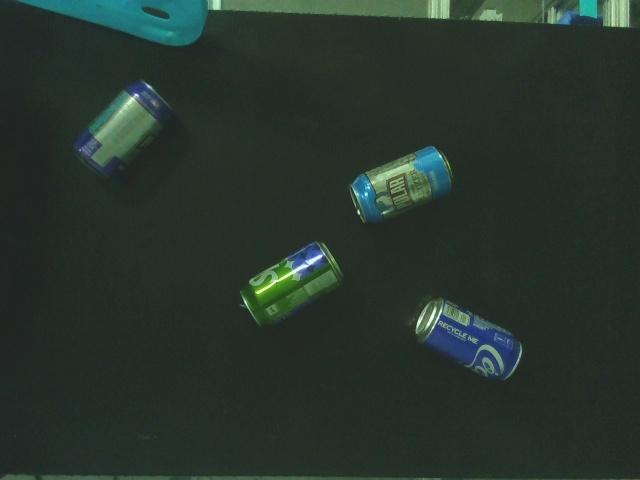metal: (70, 78, 173, 185), (414, 295, 526, 385), (238, 238, 346, 328), (349, 144, 458, 230)
